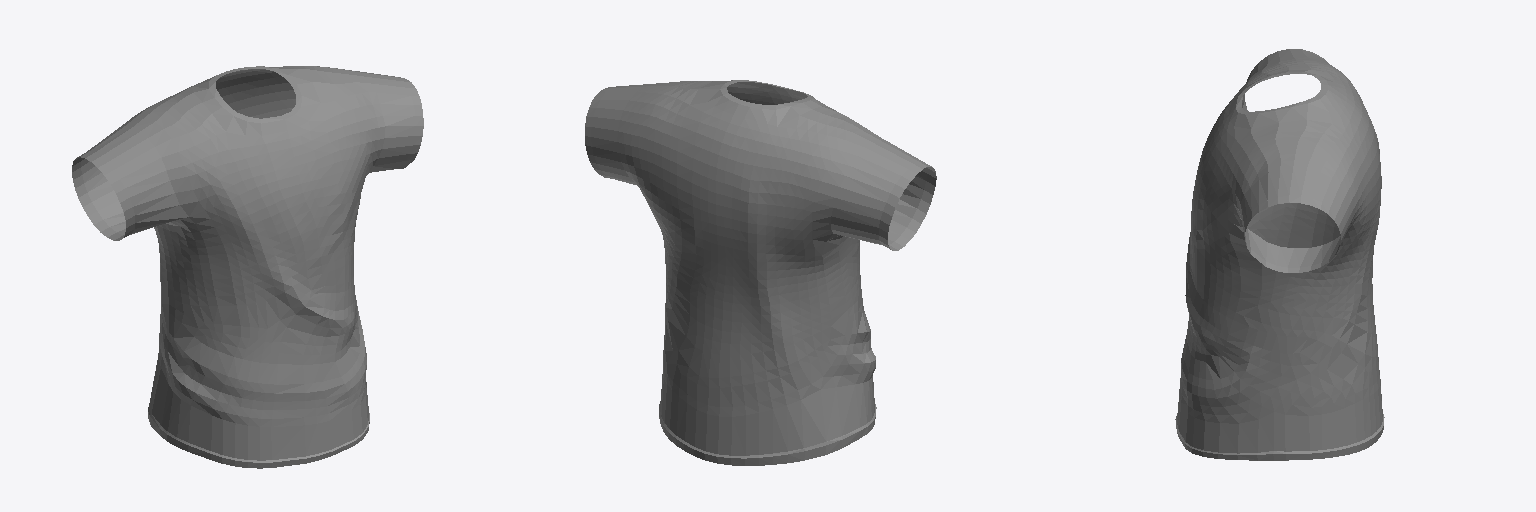
The model's file is Polo_Shirt.obj.
3 renders of one model, left to right at view 1: azimuth 30°, elevation 25°; view 2: azimuth 150°, elevation 25°; view 3: azimuth 270°, elevation 25°, orthographic.
Parts seen in each view (by area): view 1: Tshirt; view 2: Tshirt; view 3: Tshirt.
Part boxes in pixels (x1,y1,x2,y2): Tshirt: (72, 66, 423, 468); Tshirt: (585, 80, 936, 465); Tshirt: (1175, 49, 1384, 460).
Bounding box in the file's own units: 63.62 × 64.31 × 35.93.